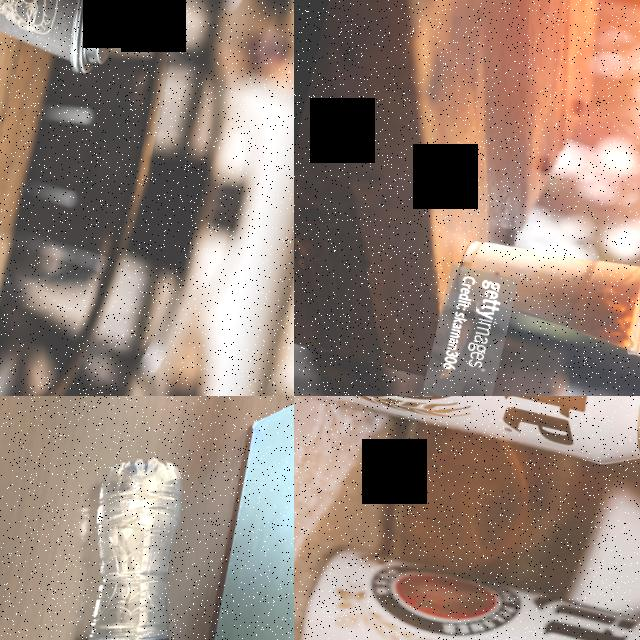bottle: (16, 446, 220, 640)
can: (294, 396, 640, 480)
cup: (448, 219, 640, 356), (0, 0, 146, 76)
